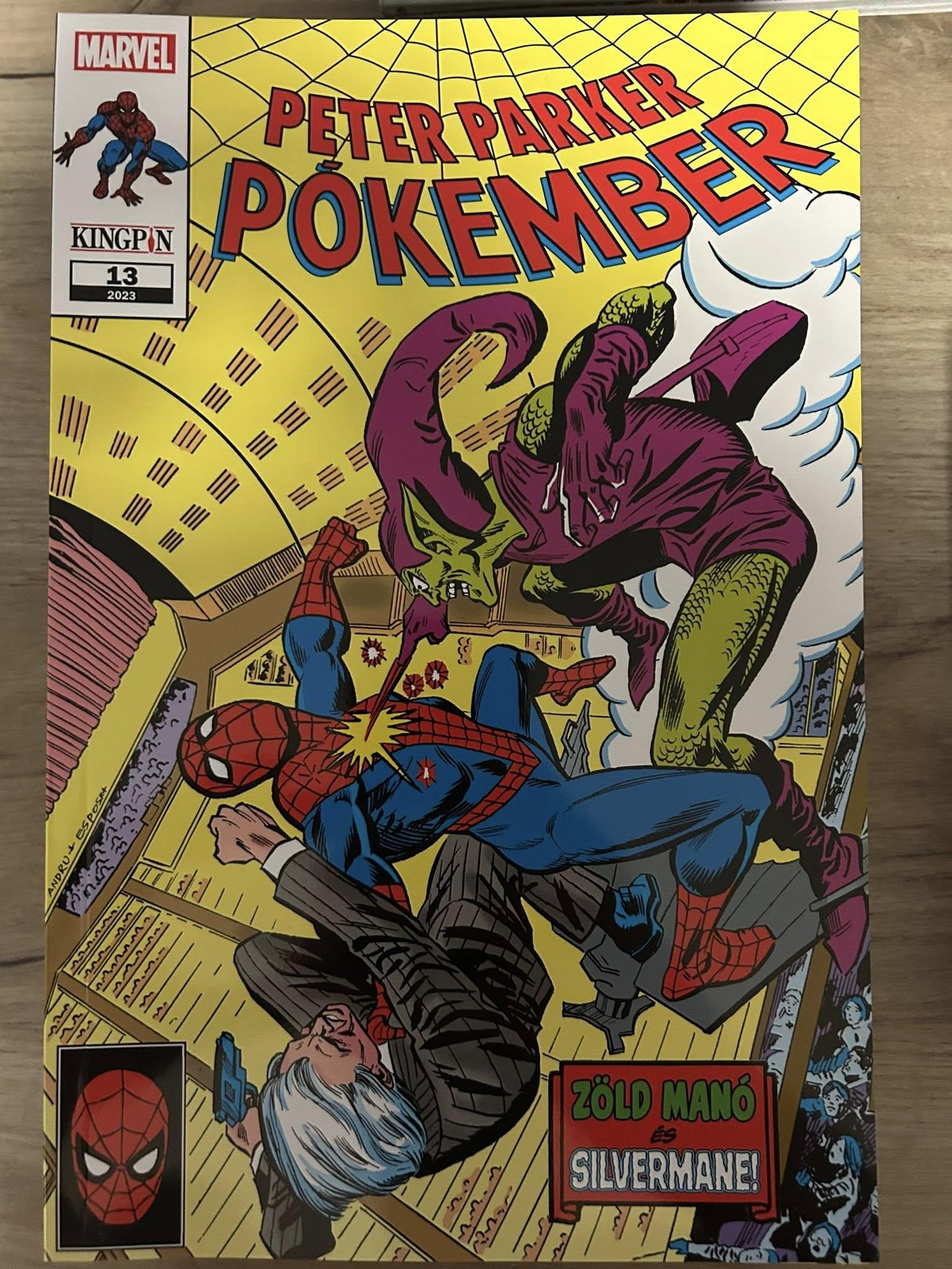comic: (40, 11, 878, 1266)
